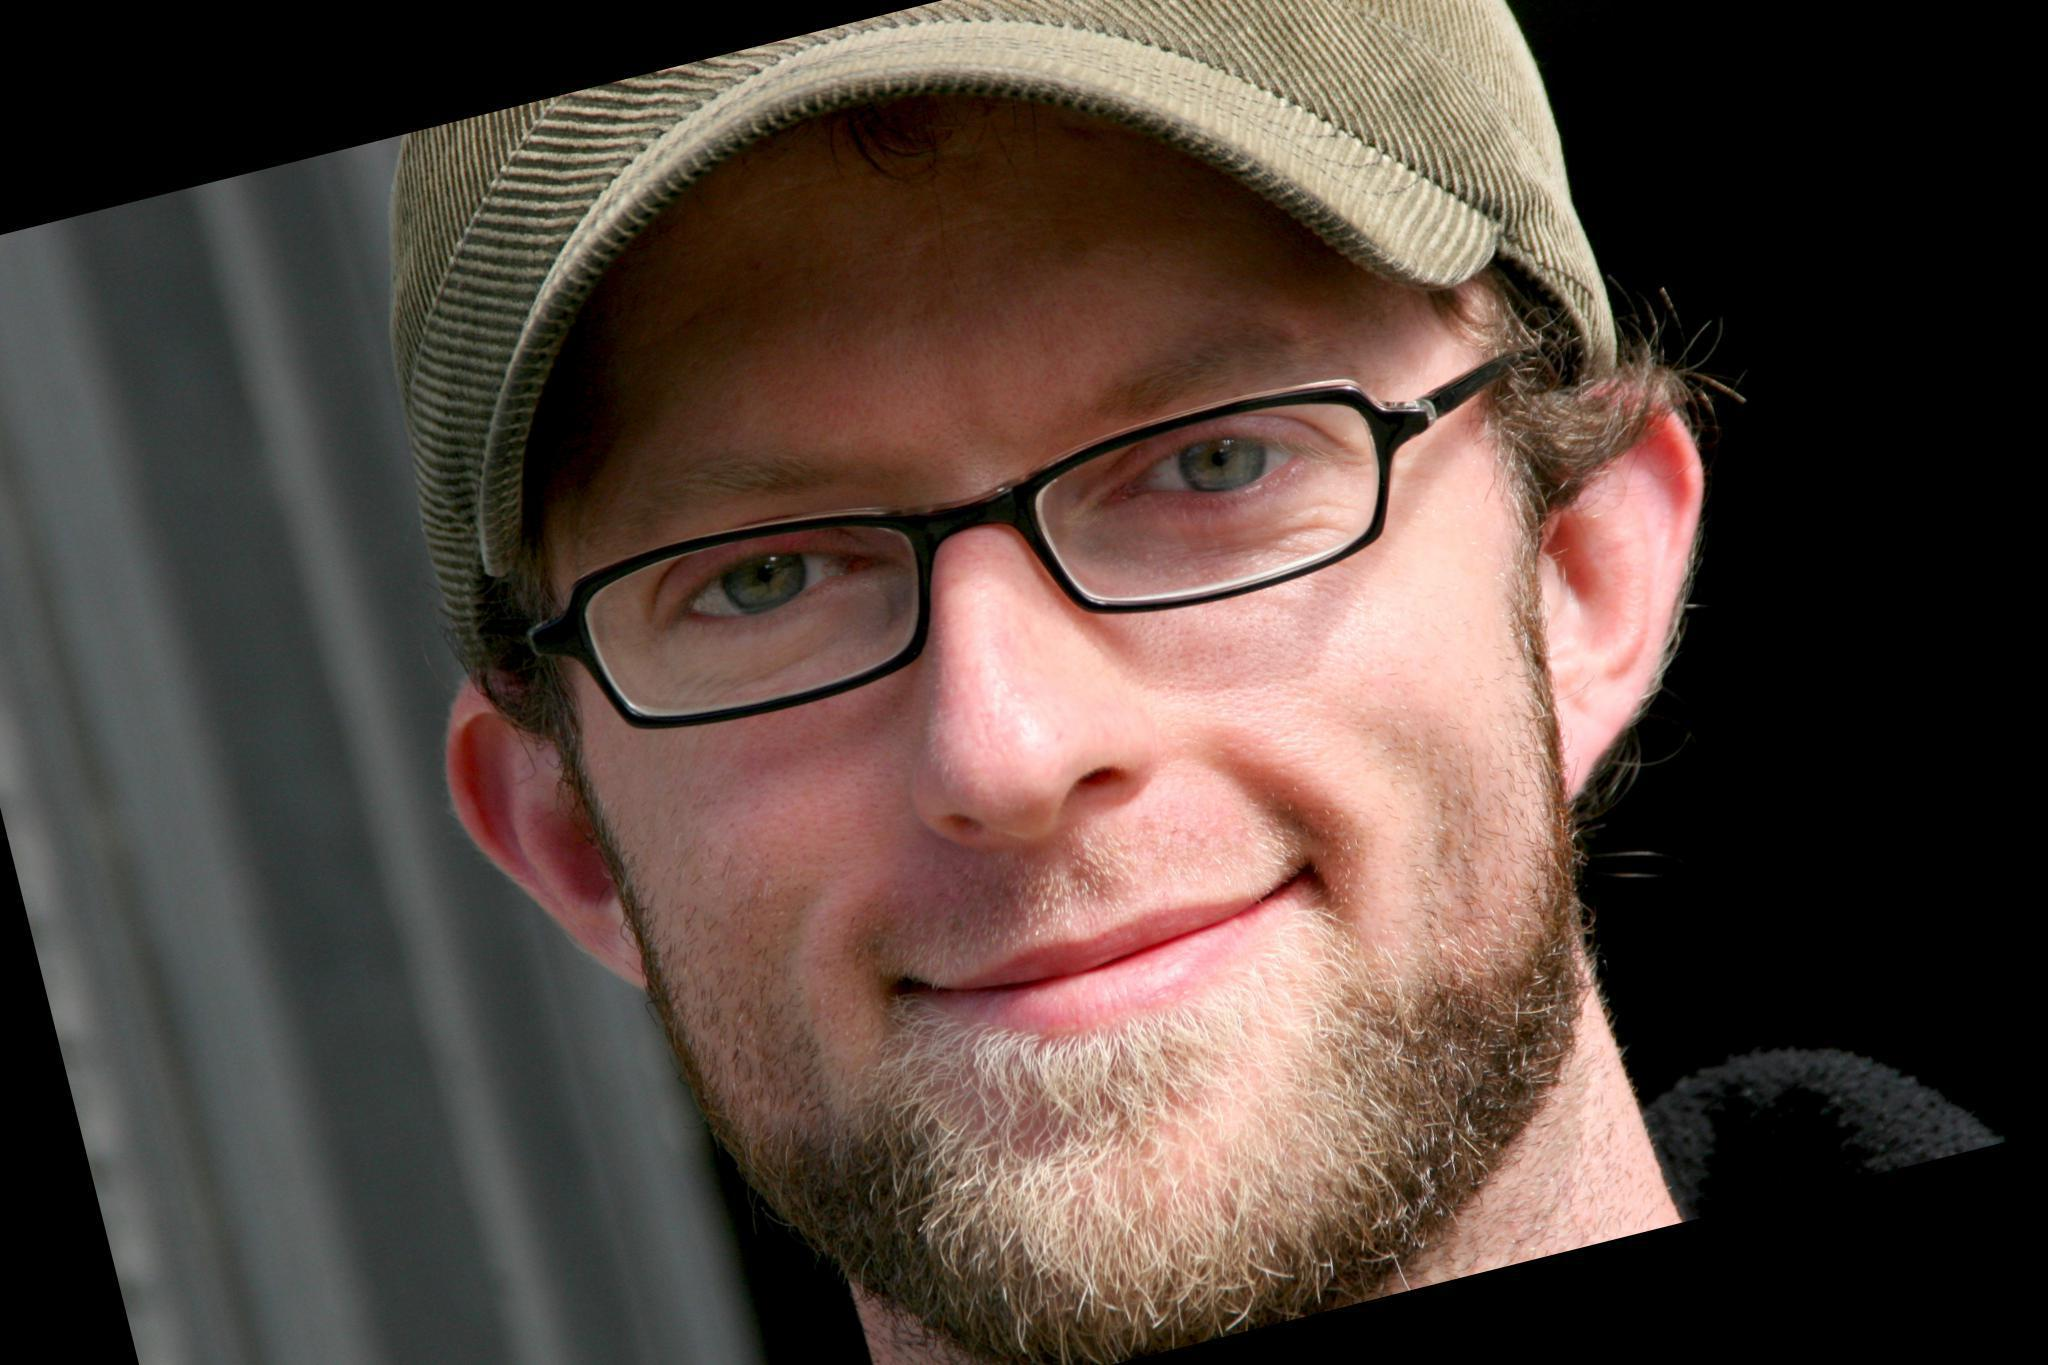Sober: (579, 334, 1590, 1188)
